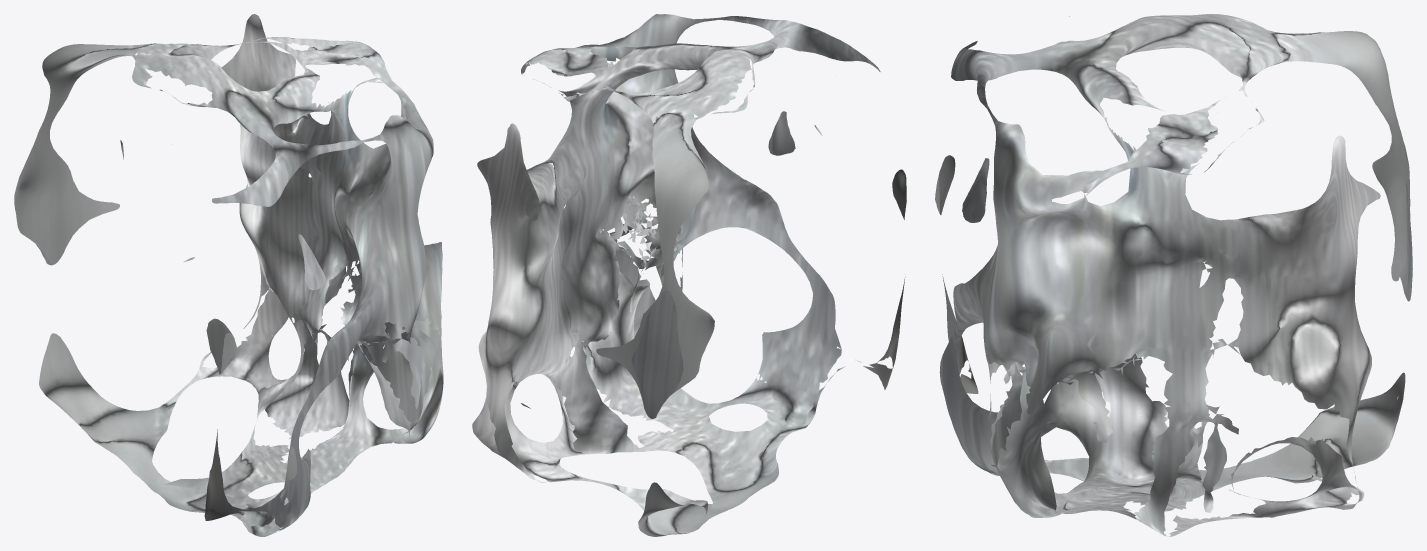
3 views of the same model, side by side, from view 1: azimuth 30°, elevation 25°; view 2: azimuth 150°, elevation 25°; view 3: azimuth 270°, elevation 25° (orthographic). The views are drawn at different scales.
Parts seen in each view (by area): view 1: Renderer Node; view 2: Renderer Node; view 3: Renderer Node.
Boxes of the visible parts, box(x1,y1,x2,y2) form: Renderer Node: box(14, 14, 443, 536); Renderer Node: box(472, 14, 906, 536); Renderer Node: box(935, 14, 1412, 536).
Size of the model in its own units: 1.56 by 2.31 by 2.06.
1 material, 1 textured.
